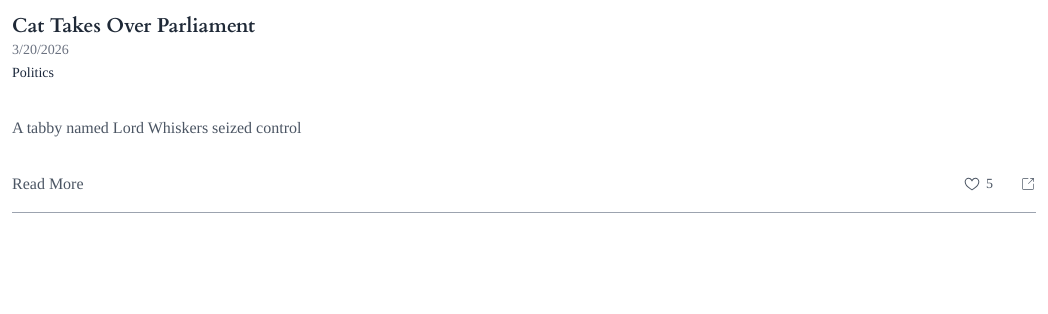
NewsCard › collapses back to 'Read More' on second click
Step 1. Click the button "Read More" → (48, 184), box [12,172,84,196]
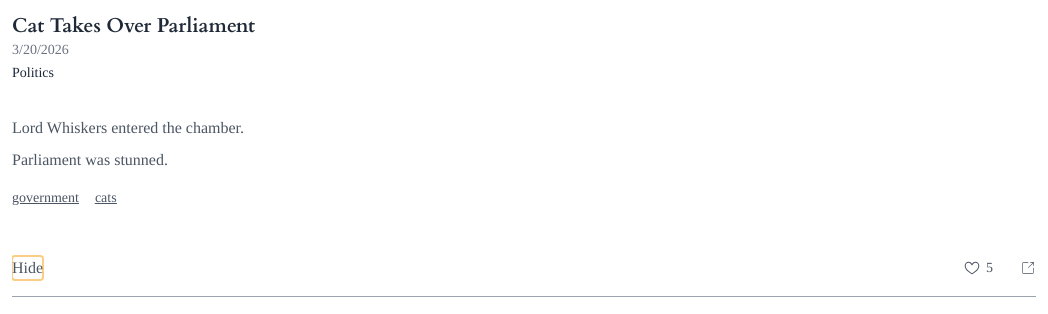
Step 2. Click the button "Hide" → (28, 268), box [12,256,43,280]
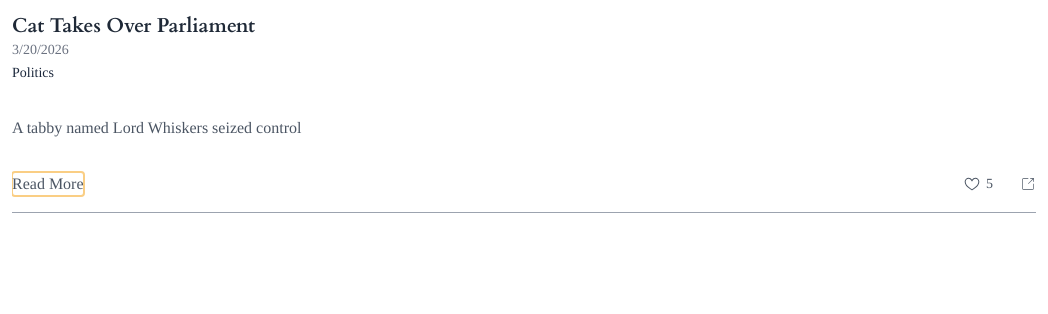
Result: the button "Read More" is shown at [12,172,84,196]
